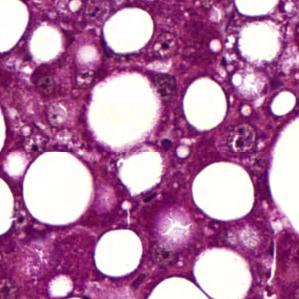steatosis: (16, 149, 91, 230), (194, 160, 257, 226), (180, 77, 229, 132), (91, 229, 146, 277), (105, 5, 154, 58)
